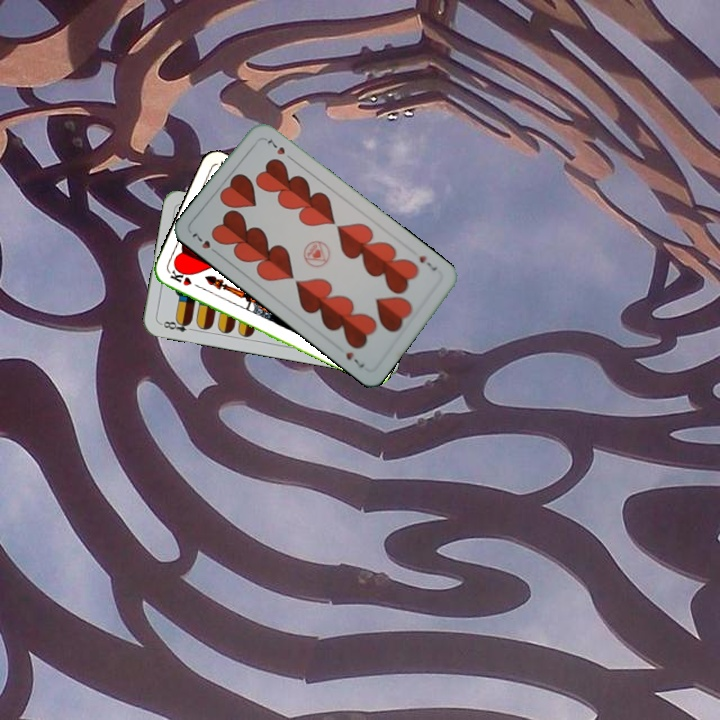E8: (157, 316, 197, 335)
H7: (188, 229, 222, 257), (415, 252, 440, 274)
HK: (166, 266, 205, 292)
